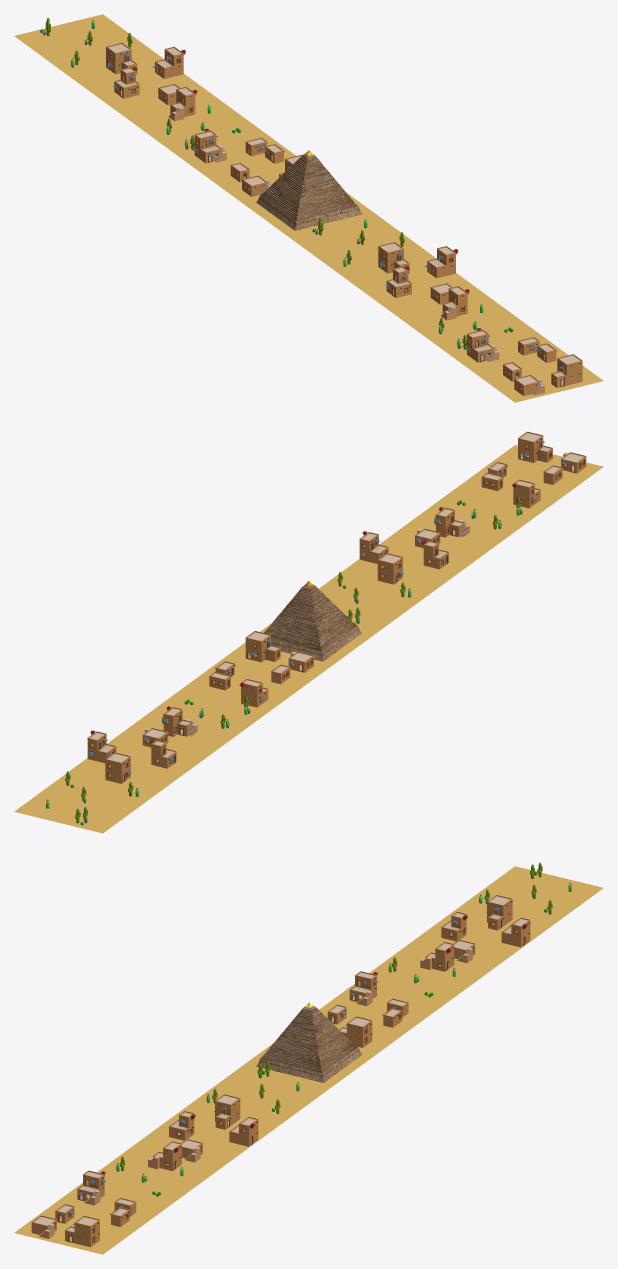
The model's file is ilkçağ_yolyanı_3.fbx.
3 renders of one model, top to bottom at view 1: azimuth 30°, elevation 25°; view 2: azimuth 150°, elevation 25°; view 3: azimuth 330°, elevation 25°, orthographic.
Visible parts, largest first — view 1: Plane.001, Pyramid.001, house_015.002, house_019.003, house_019.002, house_016.003, house_020.003, house_020.002, house_016.002, house_014.003, house_014.002, house_012.002 (+1 smaller); view 2: Plane.001, Pyramid.001, house_015.003, house_015.002, house_020.002, house_020.003, house_019.003, house_019.002, house_012.003, house_012.002, house_016.002, house_016.003 (+2 smaller); view 3: Plane.001, Pyramid.001, house_015.002, house_020.002, house_020.003, house_015.003, house_019.003, house_019.002, house_016.003, house_016.002, house_012.003, house_012.002 (+2 smaller).
Boxes of the visible parts, x1,y1,x2,y2 form: Plane.001: [14, 14, 603, 402]; Pyramid.001: [256, 150, 362, 230]; house_015.002: [551, 354, 582, 387]; house_019.003: [153, 46, 185, 78]; house_019.002: [425, 246, 458, 278]; house_016.003: [193, 128, 221, 163]; house_020.003: [106, 42, 137, 74]; house_020.002: [378, 242, 409, 273]; house_016.002: [465, 328, 494, 362]; house_014.003: [113, 67, 139, 98]; house_014.002: [385, 266, 411, 297]; house_012.002: [442, 286, 469, 316]; Plane.001: [14, 445, 603, 833]; Pyramid.001: [264, 581, 361, 661]; house_015.003: [245, 631, 280, 662]; house_015.002: [518, 431, 552, 462]; house_020.002: [377, 553, 403, 584]; house_020.003: [105, 752, 131, 783]; house_019.003: [87, 730, 116, 763]; house_019.002: [359, 531, 388, 563]; house_012.003: [163, 706, 192, 736]; house_012.002: [436, 507, 464, 537]; house_016.002: [512, 479, 540, 508]; house_016.003: [239, 679, 268, 707]; Plane.001: [14, 866, 603, 1254]; Pyramid.001: [256, 1002, 362, 1082]; house_015.002: [65, 1215, 99, 1247]; house_020.002: [214, 1094, 240, 1129]; house_020.003: [486, 895, 512, 930]; house_015.003: [339, 1016, 372, 1047]; house_019.003: [501, 917, 530, 947]; house_019.002: [229, 1116, 258, 1146]; house_016.003: [349, 971, 378, 1001]; house_016.002: [77, 1170, 106, 1201]; house_012.003: [425, 941, 454, 971]; house_012.002: [153, 1141, 181, 1170].
Size of the model in its own units: 580 by 357 by 5503.
